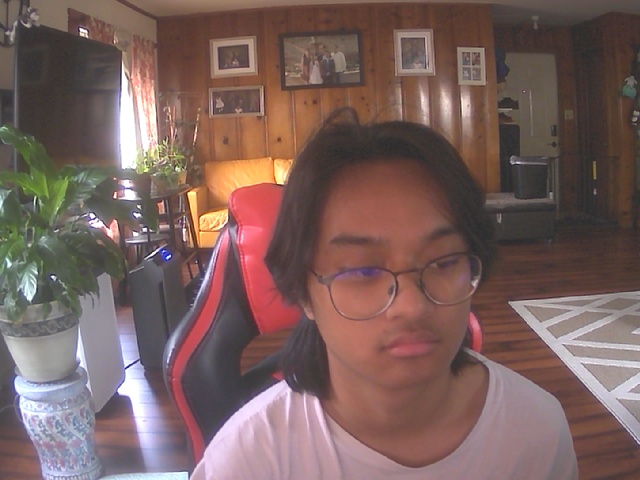neutral: (292, 128, 488, 394)
